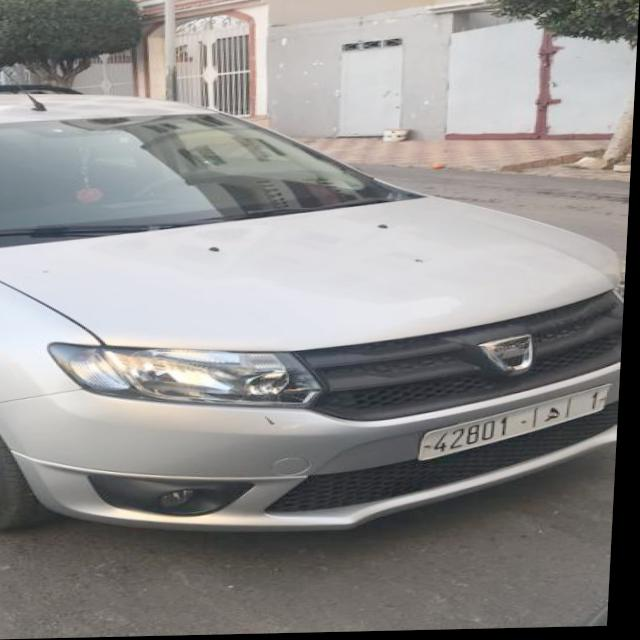License-Plate: (423, 388, 615, 462)
